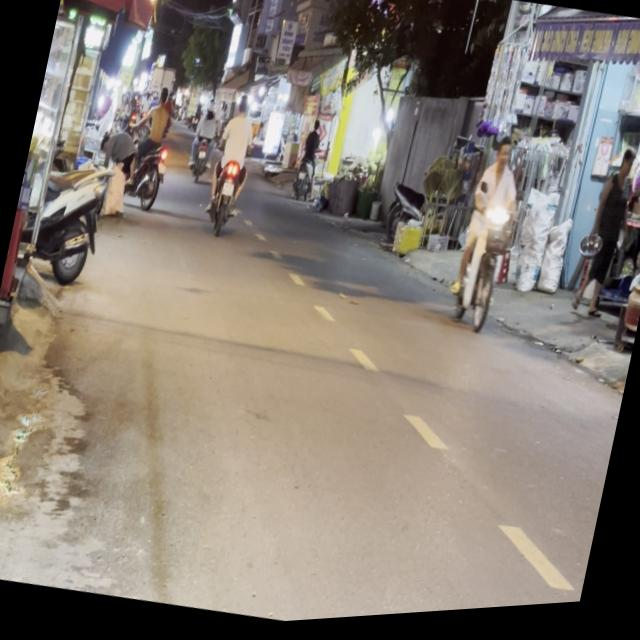licenseplate: (442, 130, 536, 343)
motorcyclist: (494, 136, 516, 175)
